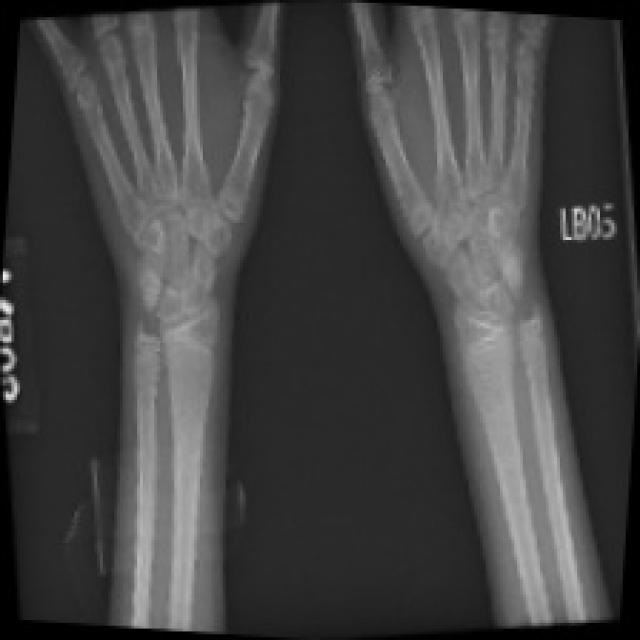fracture: (109, 276, 203, 368), (496, 265, 574, 363)
